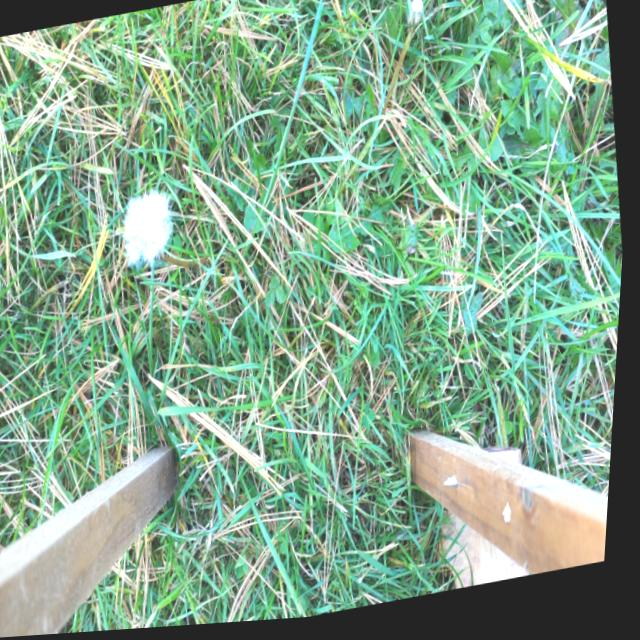base: (370, 107, 395, 144), (196, 244, 220, 279)
